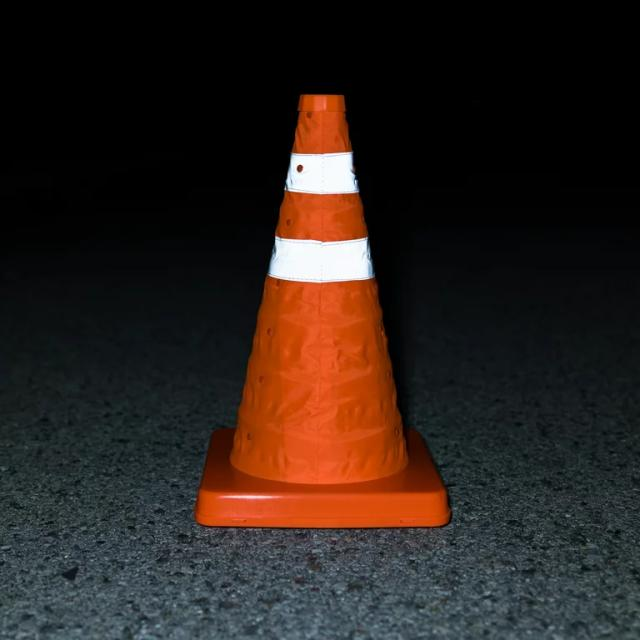Traffic Cone: (142, 40, 546, 620)
